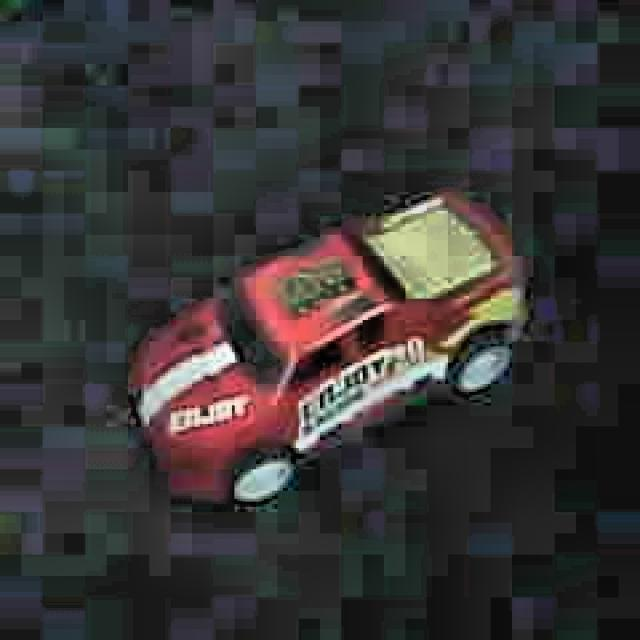car: (121, 181, 528, 512)
